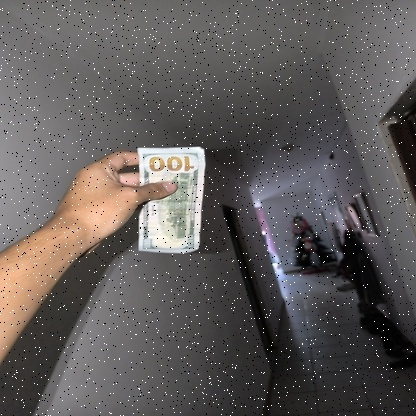one_hundred-back: (134, 148, 206, 253)
